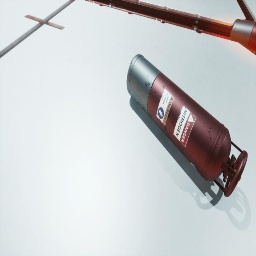NitrogenTank ,: (127, 54, 248, 197), (229, 19, 256, 52)
